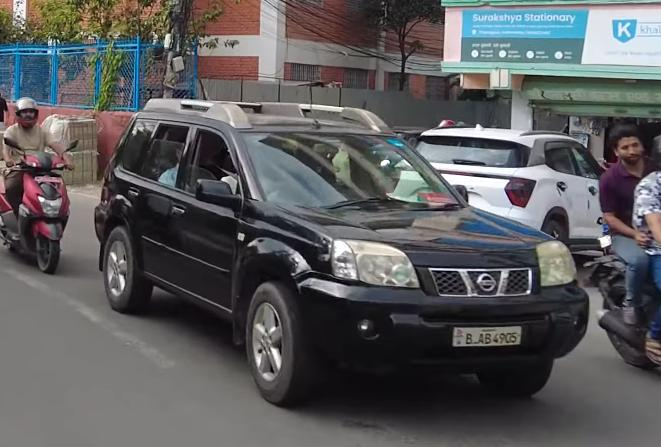car: (90, 89, 588, 402), (397, 114, 623, 261)
scooter: (0, 130, 80, 281)
